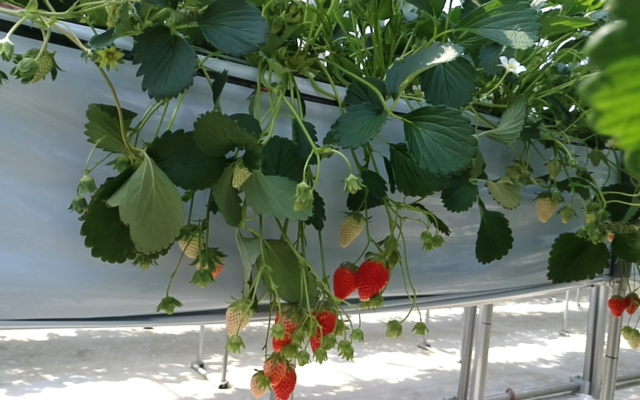GreenStrawberry: (22, 49, 54, 87), (231, 153, 262, 191), (224, 298, 252, 338), (177, 223, 206, 261), (195, 250, 225, 283), (339, 212, 365, 249), (535, 192, 560, 224), (263, 353, 286, 385), (249, 369, 271, 400), (622, 326, 640, 350)
MatureStrawberry: (308, 301, 340, 357), (356, 255, 391, 303), (272, 302, 303, 356), (332, 261, 360, 303), (273, 361, 298, 400), (608, 293, 626, 320), (624, 289, 640, 316)
